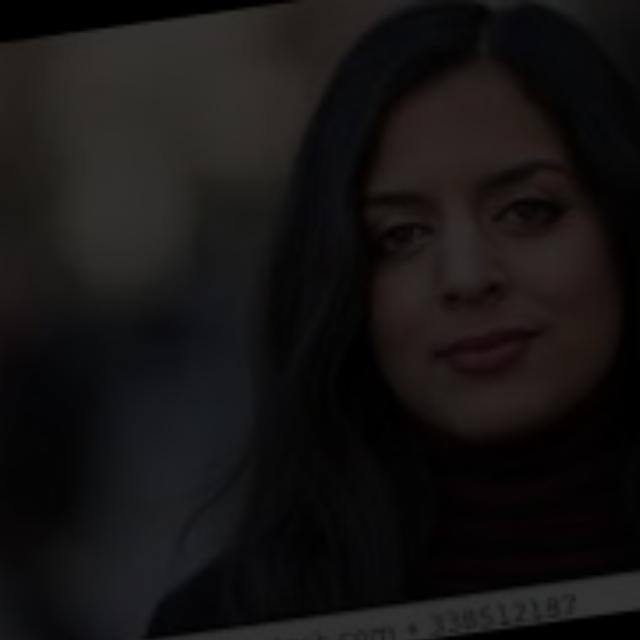Natural: (245, 102, 622, 426)
